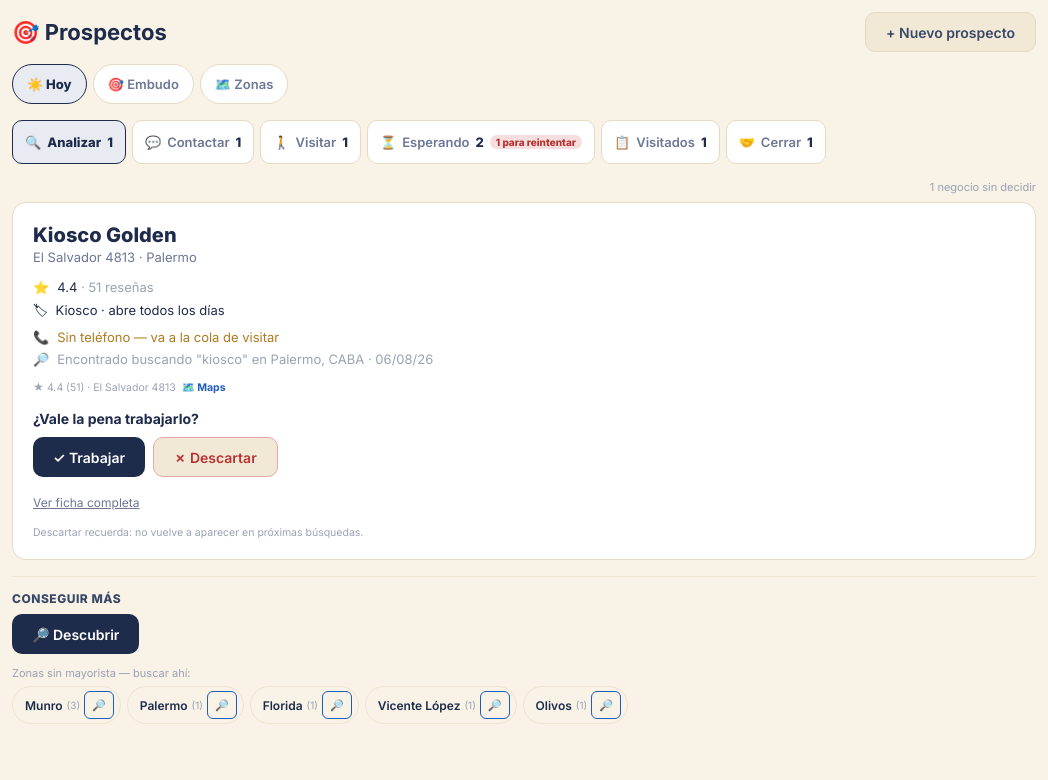
Test: Prospectos — colas de ejecución: misma gramática, acción primaria propia › ⏳ Esperando: lo vencido va primero, marcado, y con opción de reescribir
The image size is (1048, 780).
Step 1. Click the button "⏳ Esperando 2 1 para reintentar" → (481, 142), box [367,120,595,164]
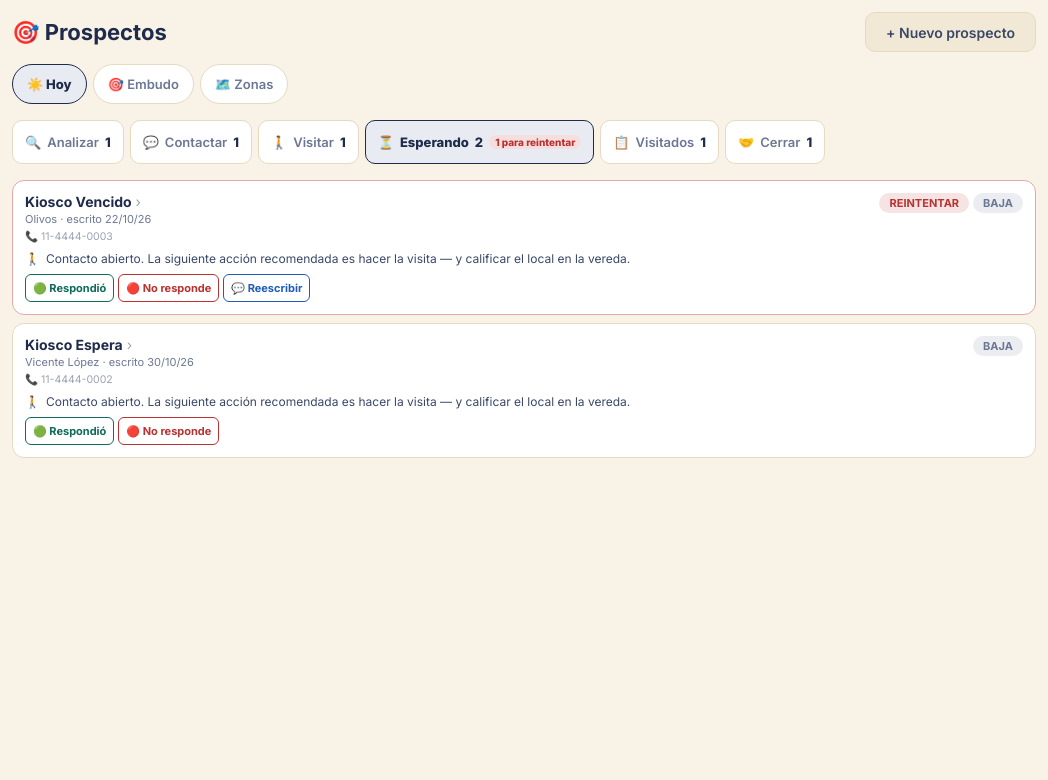
Result: the text "Kiosco Vencido ›" is shown at [25,193,141,210]
Result: the text "reintentar" is shown at [880,193,969,213]
Result: the button "💬 Reescribir" is shown at [223,274,310,302]
